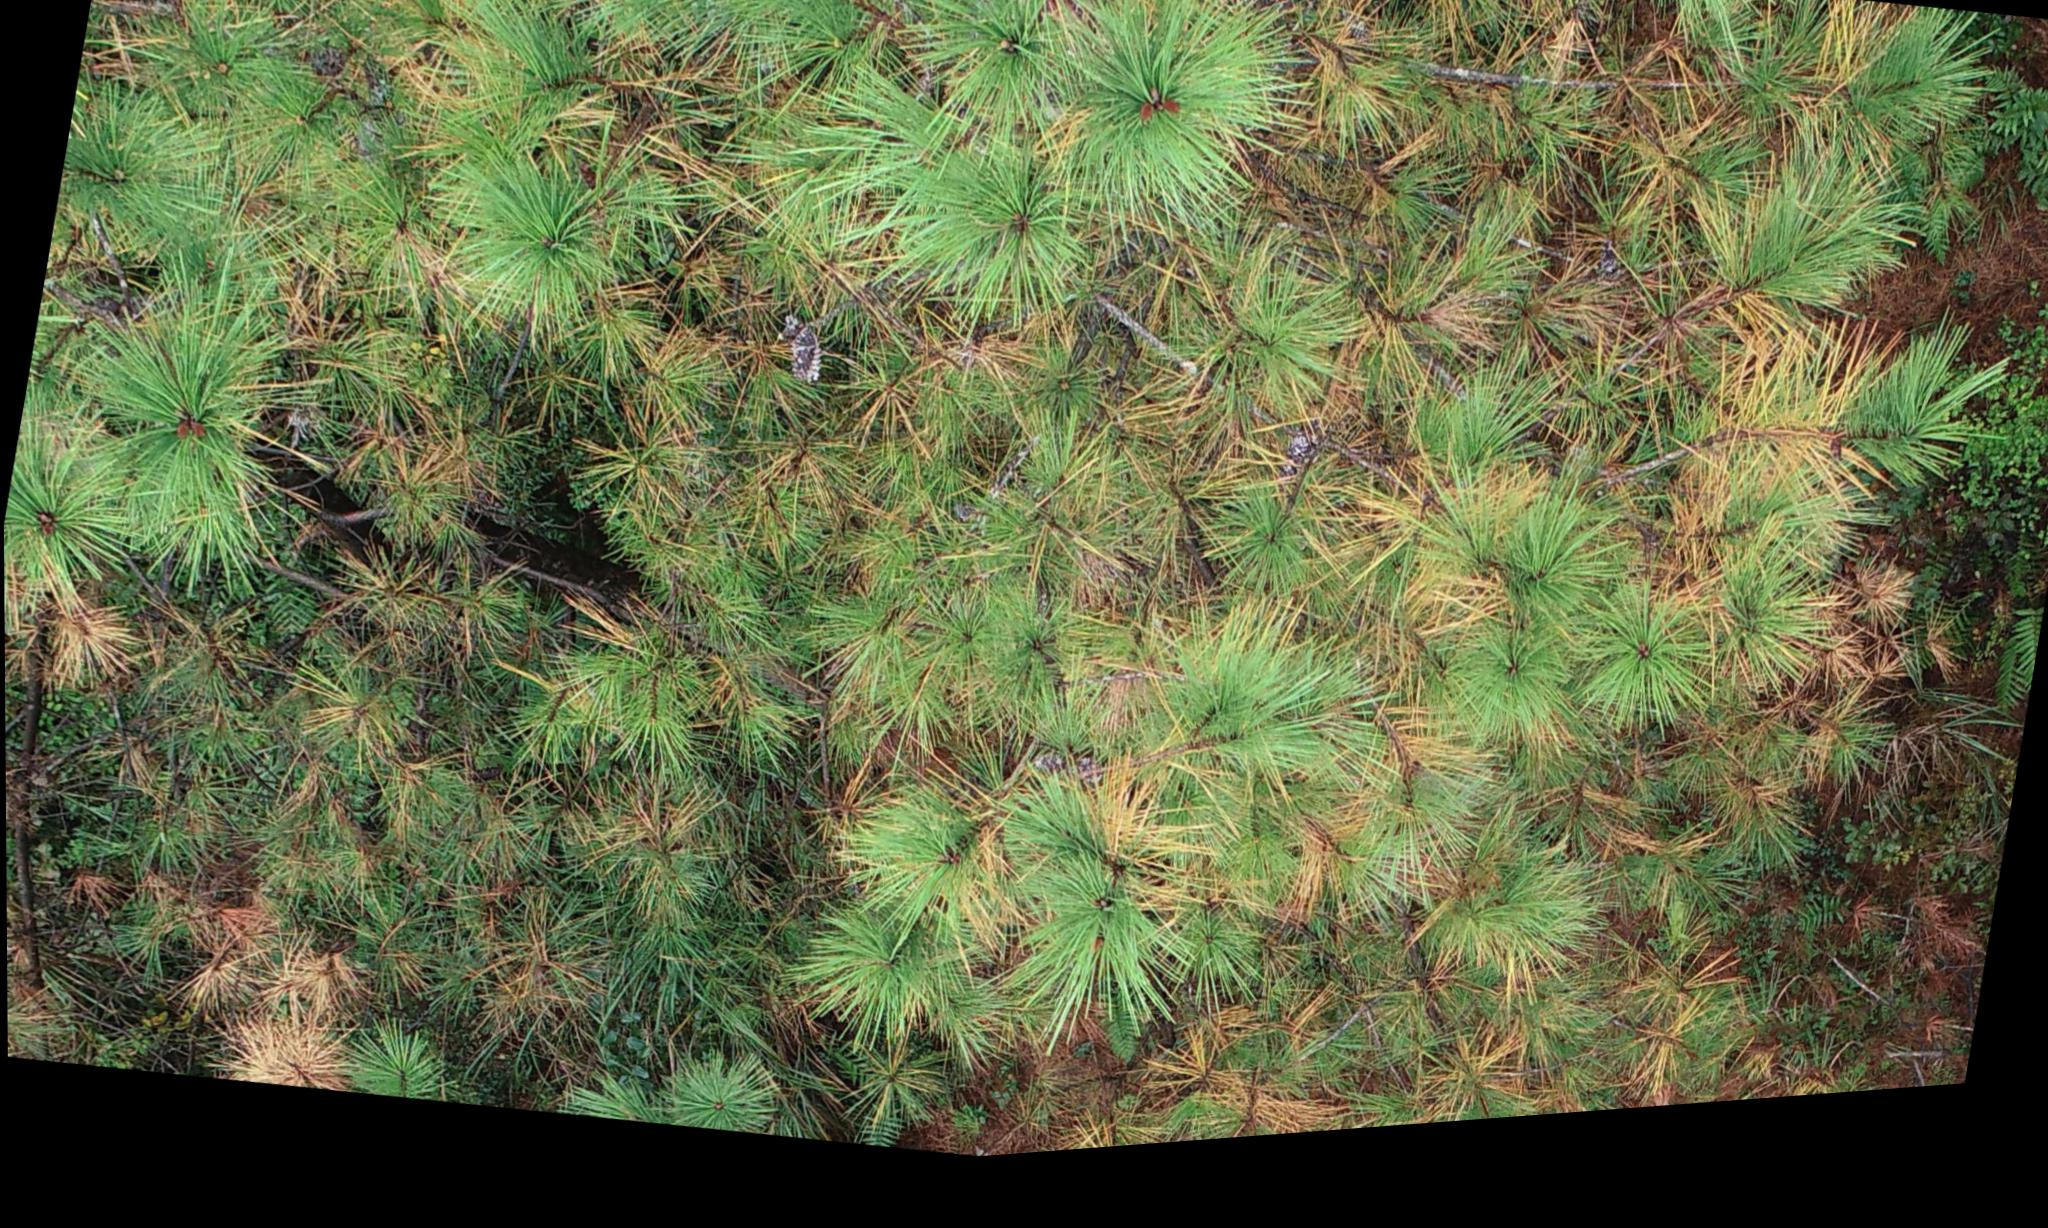light: (721, 105, 2025, 1186)
